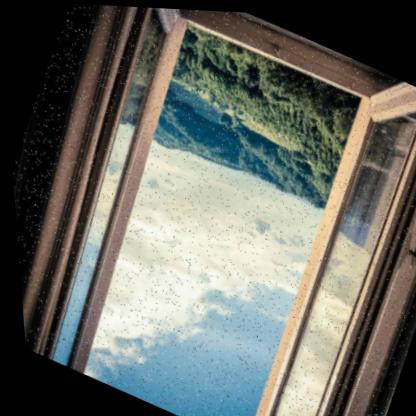Window: (8, 0, 416, 416)
